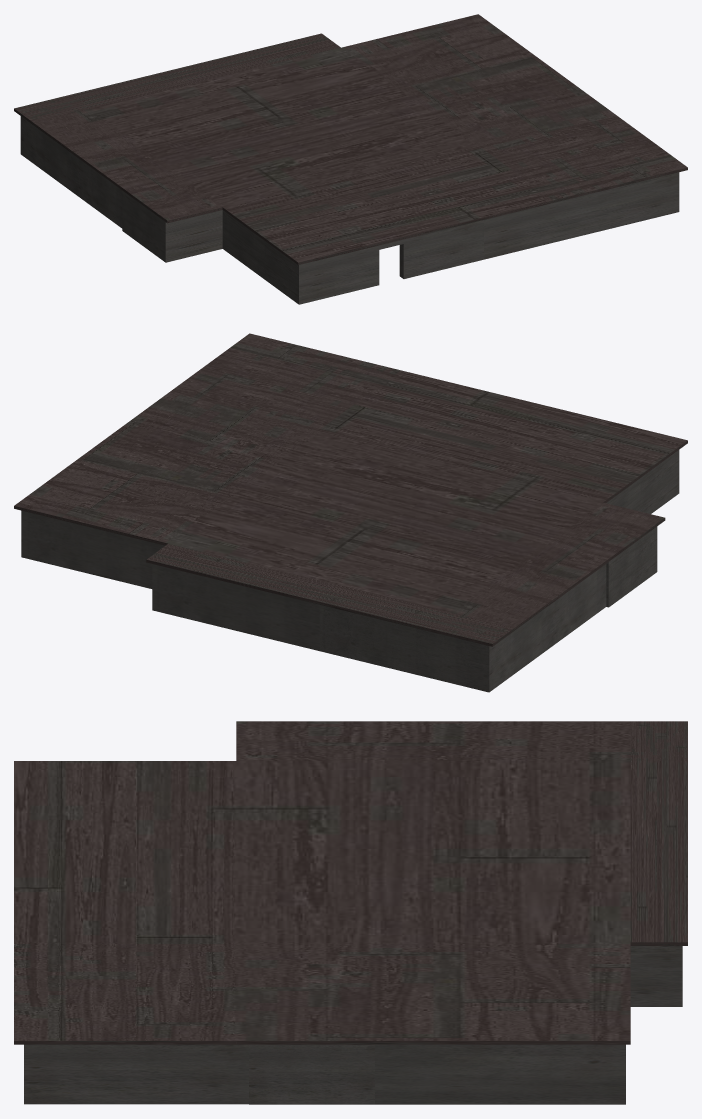
File: casamolde.glb
The picture shows the model from 3 angles, top to bottom: view 1: azimuth 30°, elevation 25°; view 2: azimuth 150°, elevation 25°; view 3: azimuth 270°, elevation 25°; orthographic projection. The views are drawn at different scales.
Visible parts, largest first — view 1: teto, Cube, Cube.002, Cube.003, Cube.004; view 2: teto, Cube.004, Cube.005, Cube.006, Cube.003, Cube; view 3: teto, Cube.006, Cube.002, Cube.003, Cube.005.
Boxes of the visible parts, <box> form: teto: <box>14,14,687,264</box>; Cube: <box>222,210,483,304</box>; Cube.002: <box>484,172,679,259</box>; Cube.003: <box>122,190,222,262</box>; Cube.004: <box>20,116,122,228</box>; teto: <box>14,333,687,646</box>; Cube.004: <box>319,564,606,692</box>; Cube.005: <box>152,564,320,651</box>; Cube.006: <box>21,510,164,588</box>; Cube.003: <box>606,526,657,607</box>; Cube: <box>606,450,679,513</box>; teto: <box>14,721,687,1044</box>; Cube.006: <box>375,1044,625,1104</box>; Cube.002: <box>24,1044,248,1104</box>; Cube.003: <box>249,1044,374,1104</box>; Cube.005: <box>630,946,682,1006</box>.
Bounding box in the file's own units: 32.57 × 3.19 × 29.03.
Materials: 2 (2 with a texture image).
